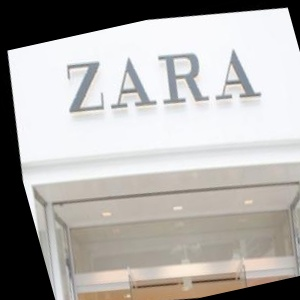zara: (220, 2, 278, 33)
